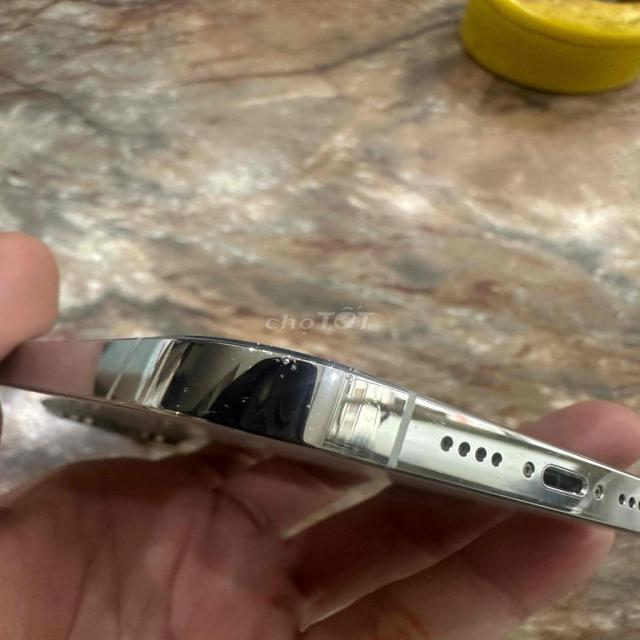scratch: (144, 337, 332, 440), (316, 361, 422, 470)
